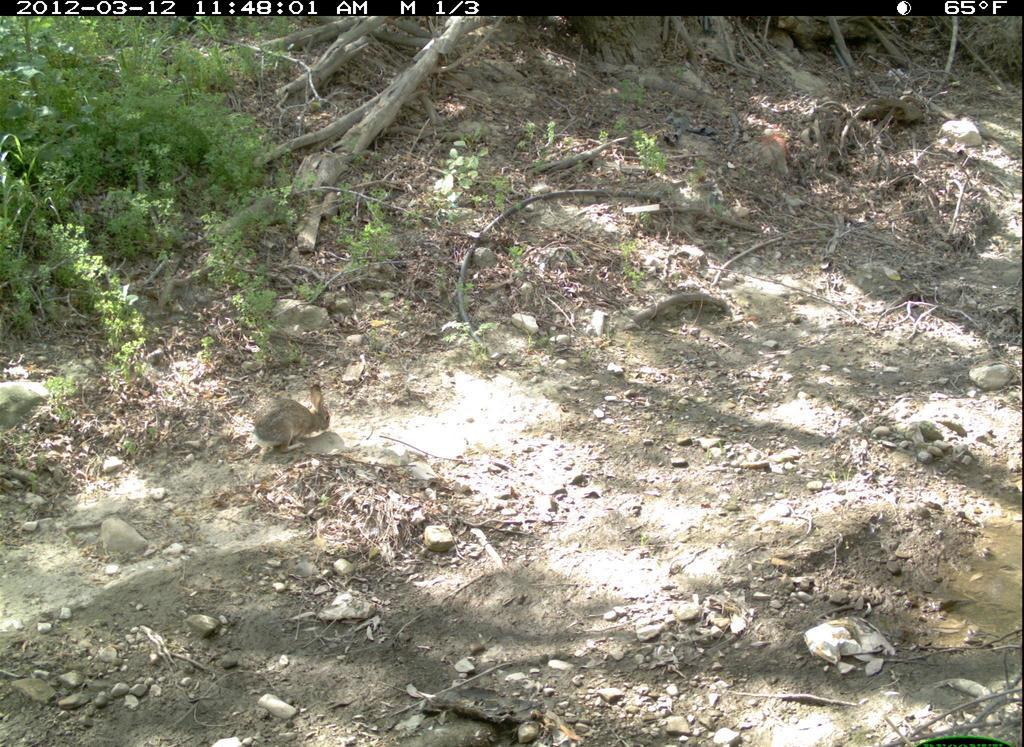rabbit: (239, 369, 344, 459)
